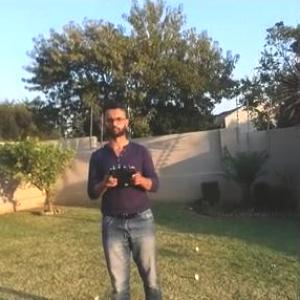follow: (79, 85, 166, 299)
